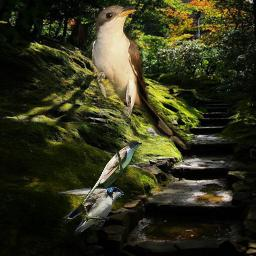Cuckoo: (88, 4, 191, 153), (81, 140, 142, 205)
Swallow: (58, 186, 124, 237)
